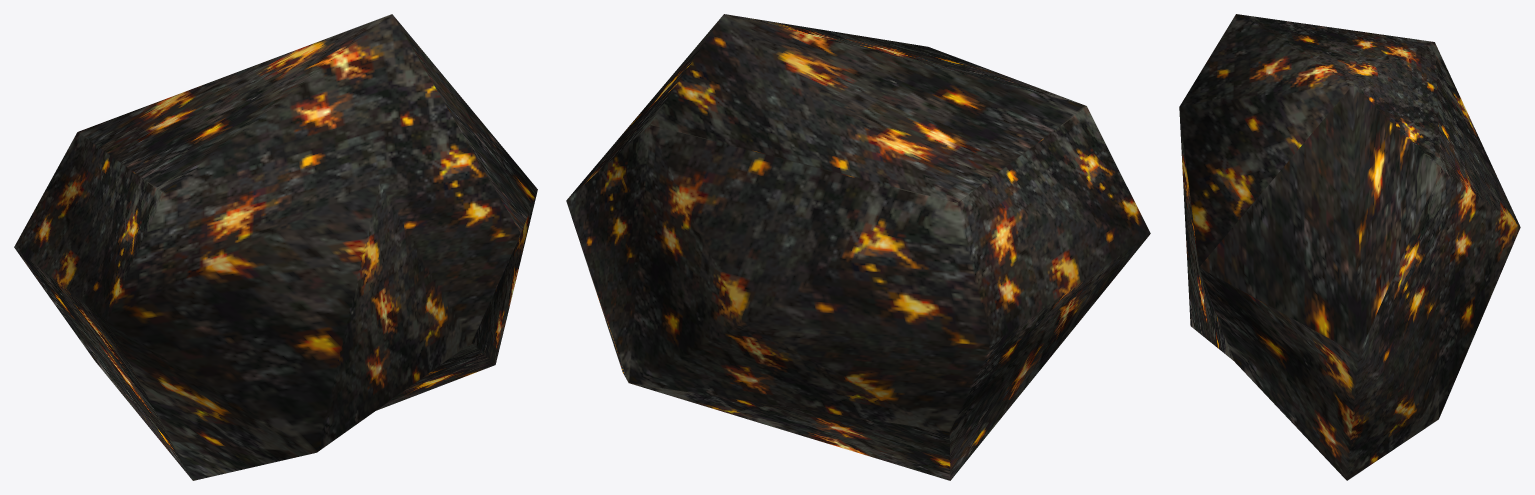
Rendered from asteroid_moltenrock_radial_s02_l3.fbx.
3 views of the same model, side by side, from view 1: azimuth 30°, elevation 25°; view 2: azimuth 150°, elevation 25°; view 3: azimuth 270°, elevation 25° (orthographic). The views are drawn at different scales.
Parts seen in each view (by area): view 1: mesh_node; view 2: mesh_node; view 3: mesh_node.
Part boxes in pixels (x1,y1,x2,y2): mesh_node: (14, 14, 537, 480); mesh_node: (566, 14, 1150, 480); mesh_node: (1179, 14, 1520, 480).
Bounding box in the file's own units: 7.14 × 5.59 × 4.54.
1 material, 1 textured.
